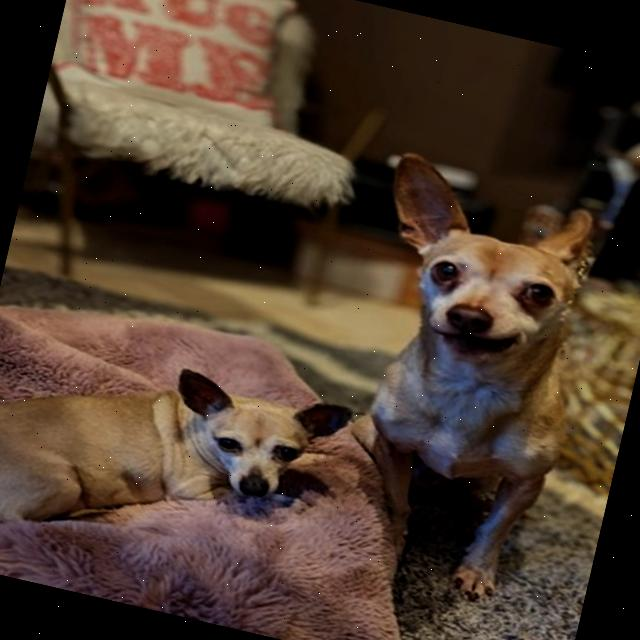chihuahua_dog: (344, 140, 610, 392), (134, 352, 366, 532)
